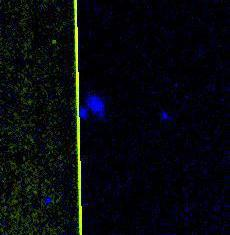star: (36, 30, 66, 60)
